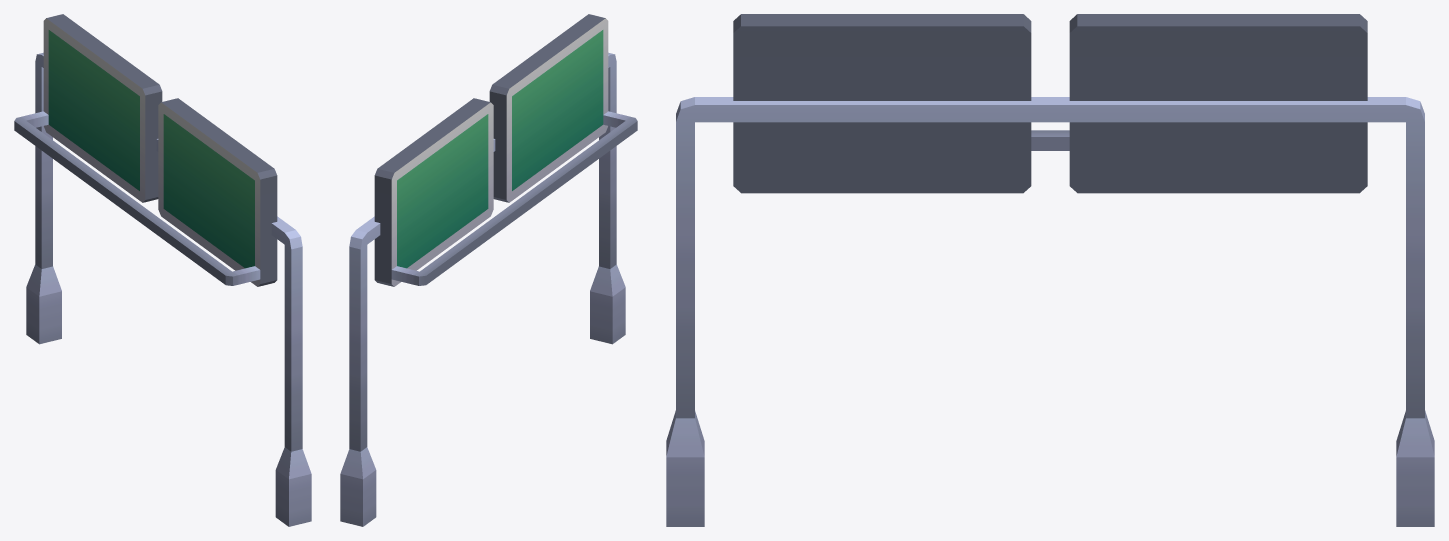
Rendered from roads__sign-highway.glb.
3 renders of one model, left to right at view 1: azimuth 30°, elevation 25°; view 2: azimuth 150°, elevation 25°; view 3: azimuth 270°, elevation 25°, orthographic. The views are drawn at different scales.
Parts seen in each view (by area): view 1: sign-highway; view 2: sign-highway; view 3: sign-highway.
Part boxes in pixels (box(x1,y1,x2,y2)): sign-highway: box(14, 14, 311, 526); sign-highway: box(340, 14, 637, 526); sign-highway: box(666, 14, 1434, 526).
Size of the model in its own units: 0.1323 by 0.7074 by 1.
1 material, 1 textured.
